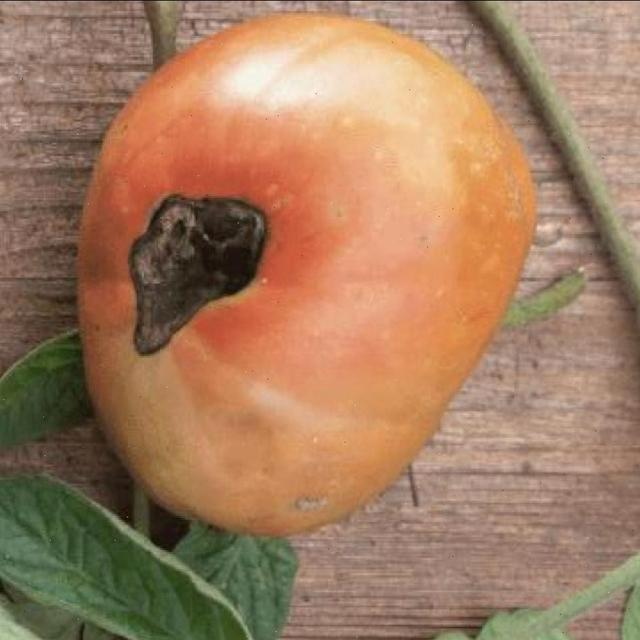Blossom End Rot Fruit: (82, 128, 182, 237)
